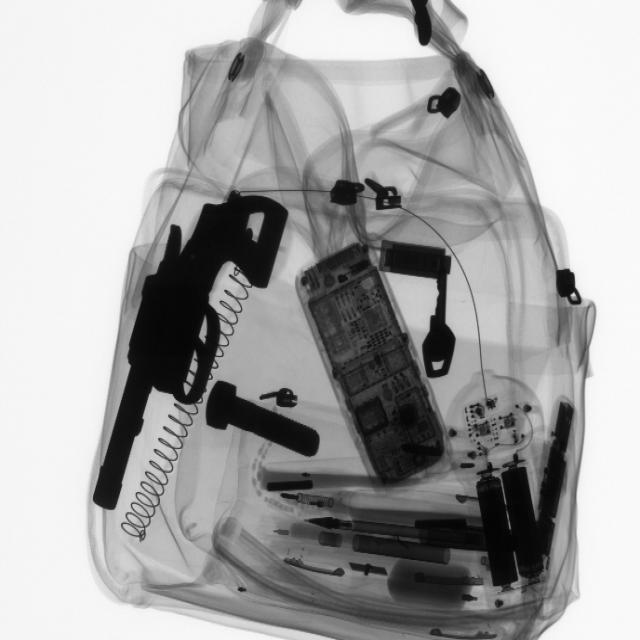GUN: (95, 196, 282, 520)
